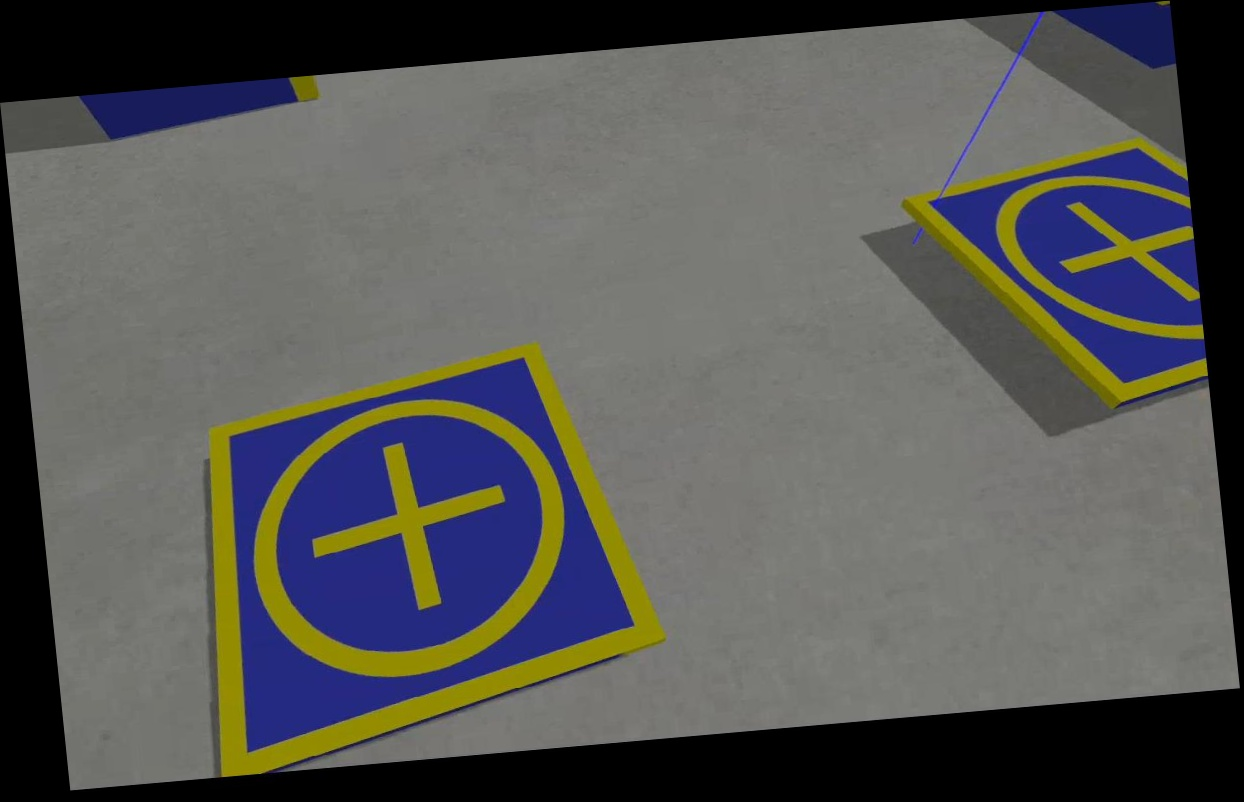small_base: (175, 335, 678, 775), (897, 130, 1212, 422)
